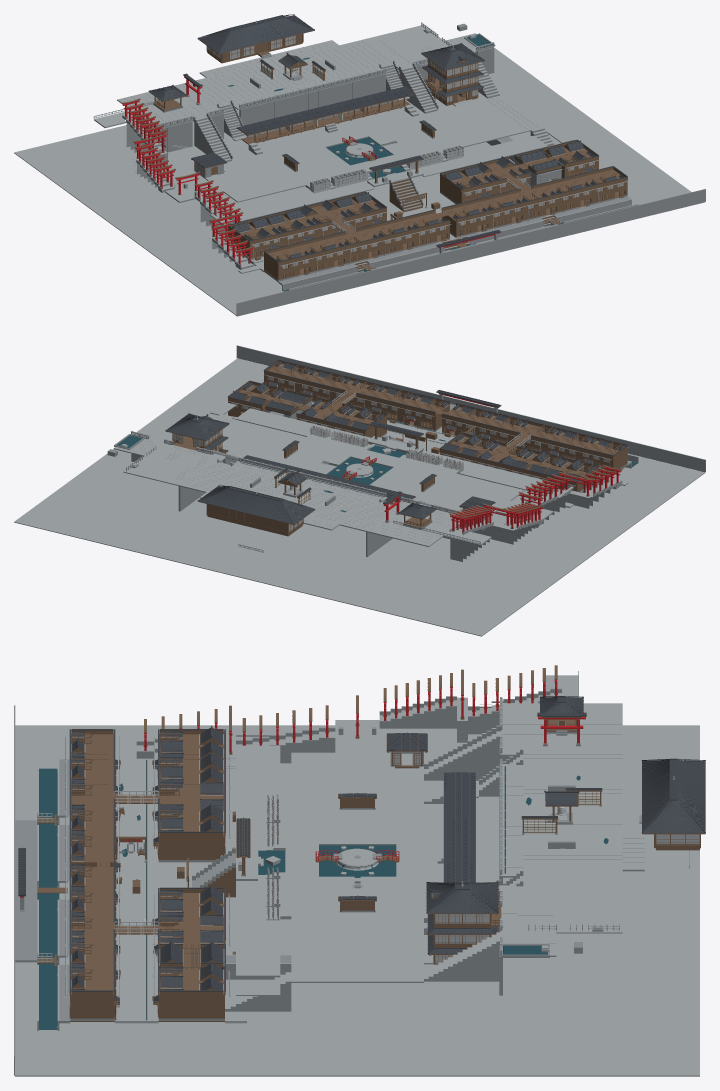
File: katana.glb
3 renders of one model, top to bottom at view 1: azimuth 30°, elevation 25°; view 2: azimuth 150°, elevation 25°; view 3: azimuth 270°, elevation 25°, orthographic. The views are drawn at different scales.
Parts seen in each view (by area): view 1: terrain, garden, town, shrine; view 2: terrain, garden, town, shrine; view 3: terrain, town, garden, shrine.
Part boxes in pixels (x1,y1,x2,y2): terrain: (14, 23, 705, 316); garden: (93, 86, 573, 273); town: (227, 139, 638, 291); shrine: (117, 14, 553, 161); terrain: (14, 345, 705, 636); garden: (210, 402, 628, 561); town: (228, 359, 638, 507); shrine: (107, 413, 466, 557); terrain: (14, 705, 699, 1076); town: (15, 725, 246, 1030); garden: (37, 665, 689, 995); shrine: (225, 696, 705, 1011).
Size of the model in its own units: 150 by 25.25 by 125.
